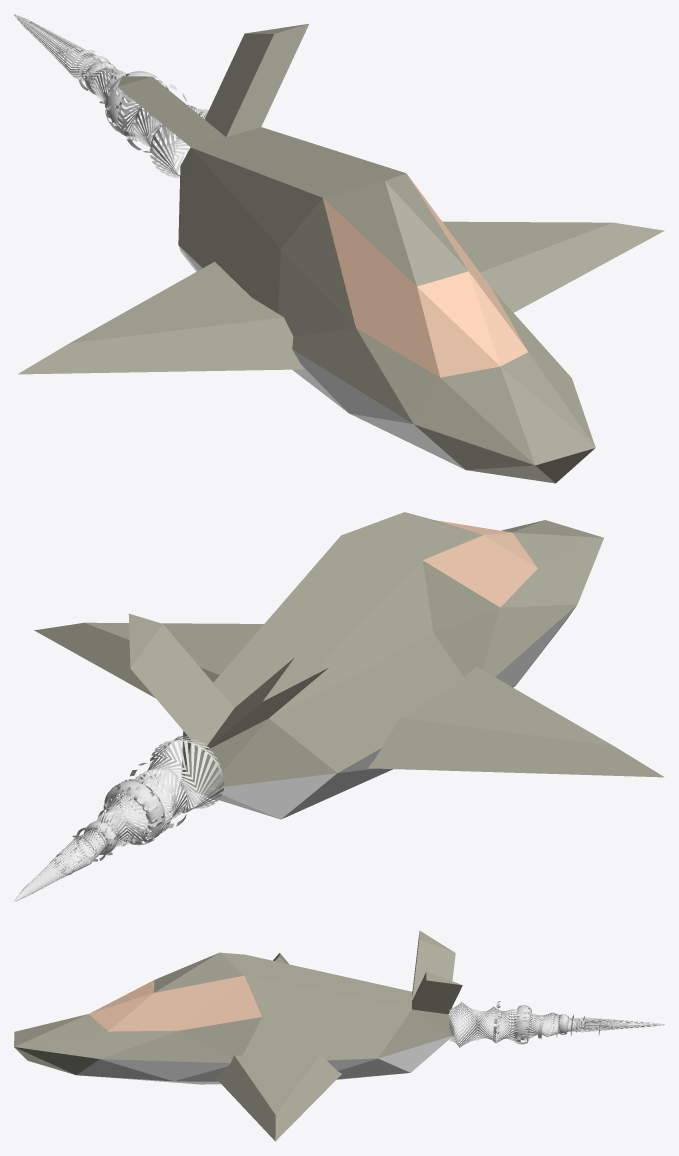
File: naveAnimada-2.fbx
The picture shows the model from 3 angles, top to bottom: view 1: azimuth 30°, elevation 25°; view 2: azimuth 150°, elevation 25°; view 3: azimuth 270°, elevation 25°; orthographic projection. The views are drawn at different scales.
Parts seen in each view (by area): view 1: nave2, Cube, propulsor2.001; view 2: nave2, Cube, propulsor2.001; view 3: nave2, Cube, propulsor2.001.
Part boxes in pixels (x1,y1,x2,y2): nave2: [117, 24, 595, 483]; Cube: [18, 221, 664, 374]; propulsor2.001: [14, 14, 208, 177]; nave2: [128, 512, 603, 819]; Cube: [34, 622, 664, 777]; propulsor2.001: [14, 735, 224, 901]; nave2: [14, 931, 462, 1084]; Cube: [215, 953, 341, 1141]; propulsor2.001: [449, 1001, 664, 1047].
Bounding box in the file's own units: 979 × 306 × 1474.
